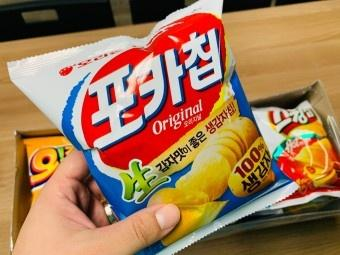snack: (7, 0, 300, 255)
